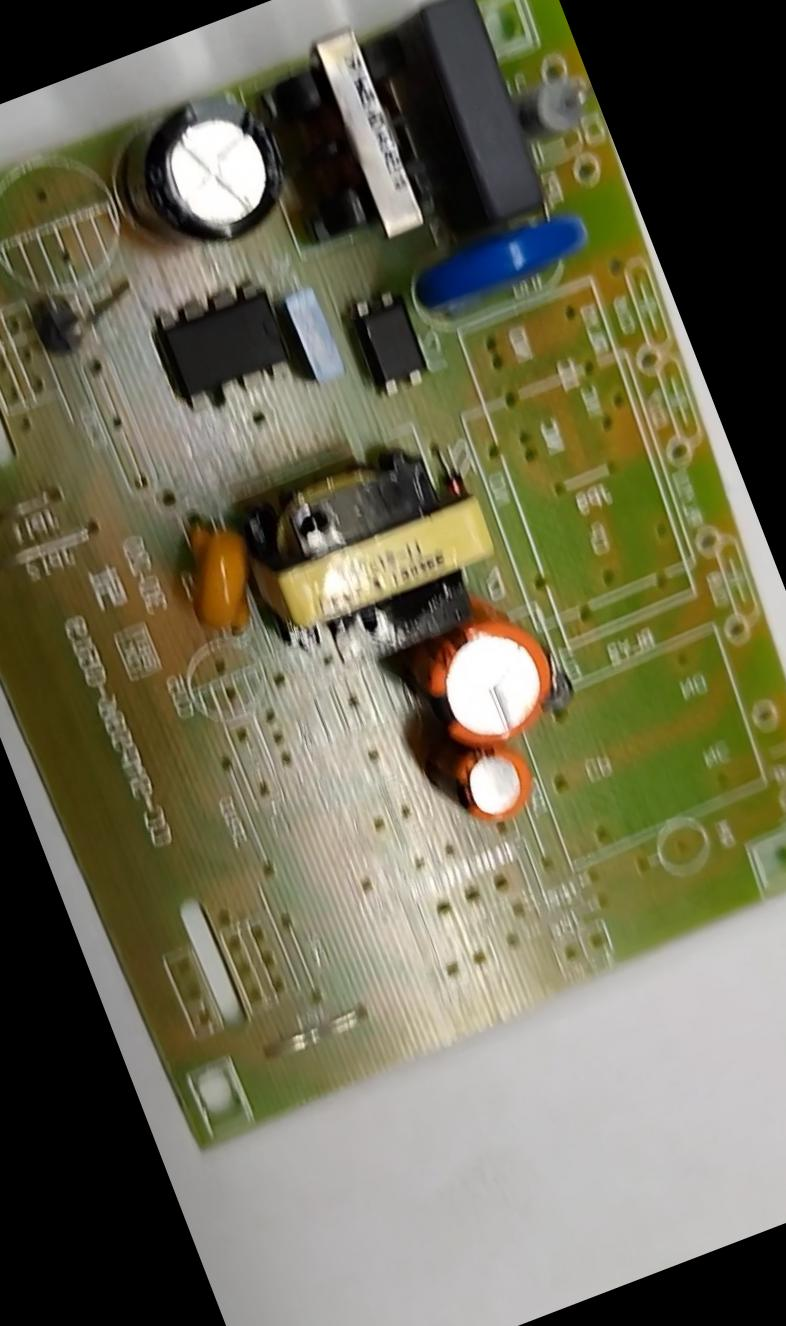Cap1: (404, 596, 568, 760)
Cap2: (445, 740, 540, 830)
Cap3: (110, 84, 298, 256)
MOSFET: (152, 274, 296, 416)
Mov: (420, 204, 596, 318)
Resistor: (515, 65, 605, 152)
Transformer: (229, 432, 509, 668), (253, 13, 454, 257)
